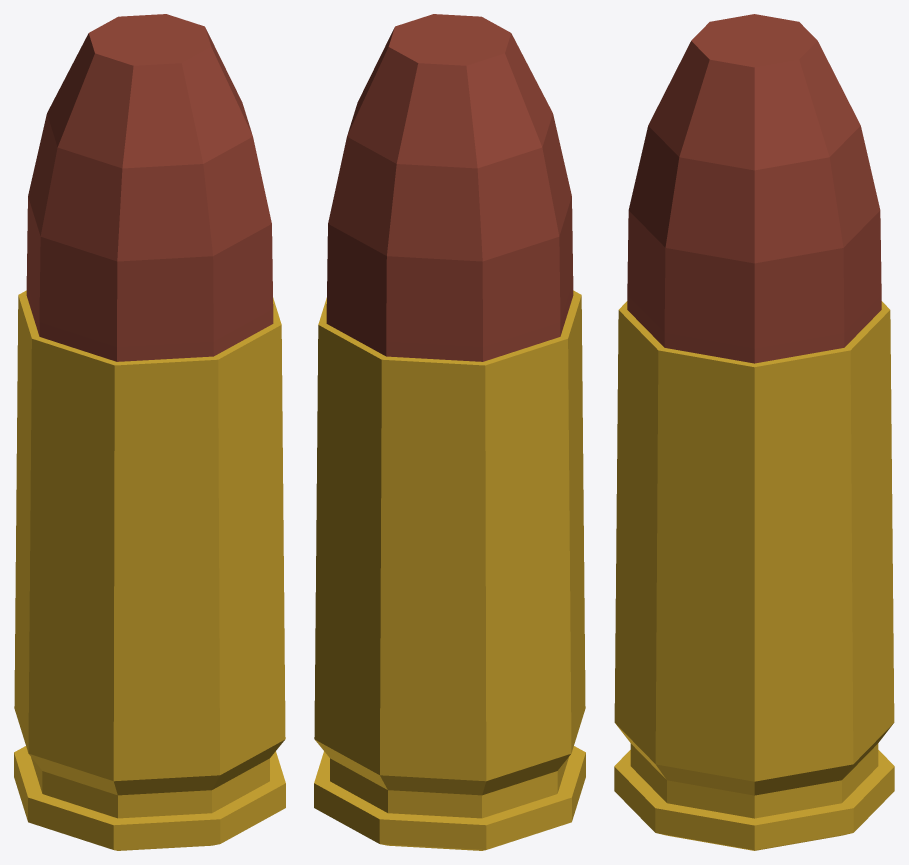
3 renders of one model, left to right at view 1: azimuth 30°, elevation 25°; view 2: azimuth 150°, elevation 25°; view 3: azimuth 270°, elevation 25°, orthographic.
Parts seen in each view (by area): view 1: 9x19; view 2: 9x19; view 3: 9x19.
Part boxes in pixels (x1,y1,x2,y2): 9x19: (14, 14, 285, 850); 9x19: (314, 14, 585, 850); 9x19: (614, 14, 894, 850).
Size of the model in its own units: 0.00996 by 0.0297 by 0.00996.
Materials: 1 (1 with a texture image).
